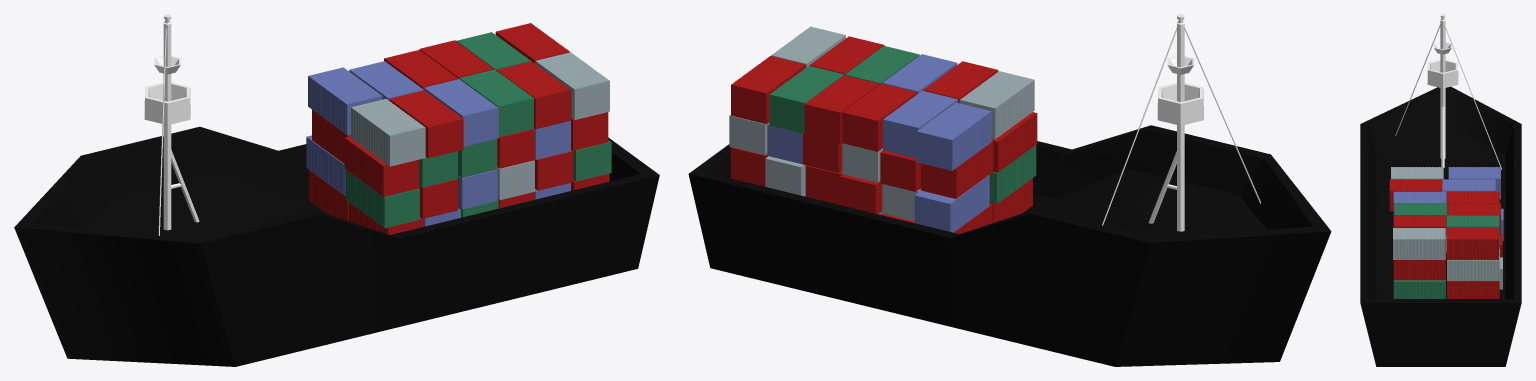
The model's file is cargoShip.obj.
The picture shows the model from 3 angles, left to right: view 1: azimuth 30°, elevation 25°; view 2: azimuth 150°, elevation 25°; view 3: azimuth 270°, elevation 25°; orthographic projection. The views are drawn at different scales.
Parts seen in each view (by area): view 1: cargoShip; view 2: cargoShip; view 3: cargoShip.
Part boxes in pixels (left/top/right/bottom): cargoShip: left=14, top=14, right=659, bottom=366; cargoShip: left=688, top=14, right=1331, bottom=366; cargoShip: left=1360, top=14, right=1521, bottom=366.
Bounding box in the file's own units: 50.05 × 26.22 × 17.89.
